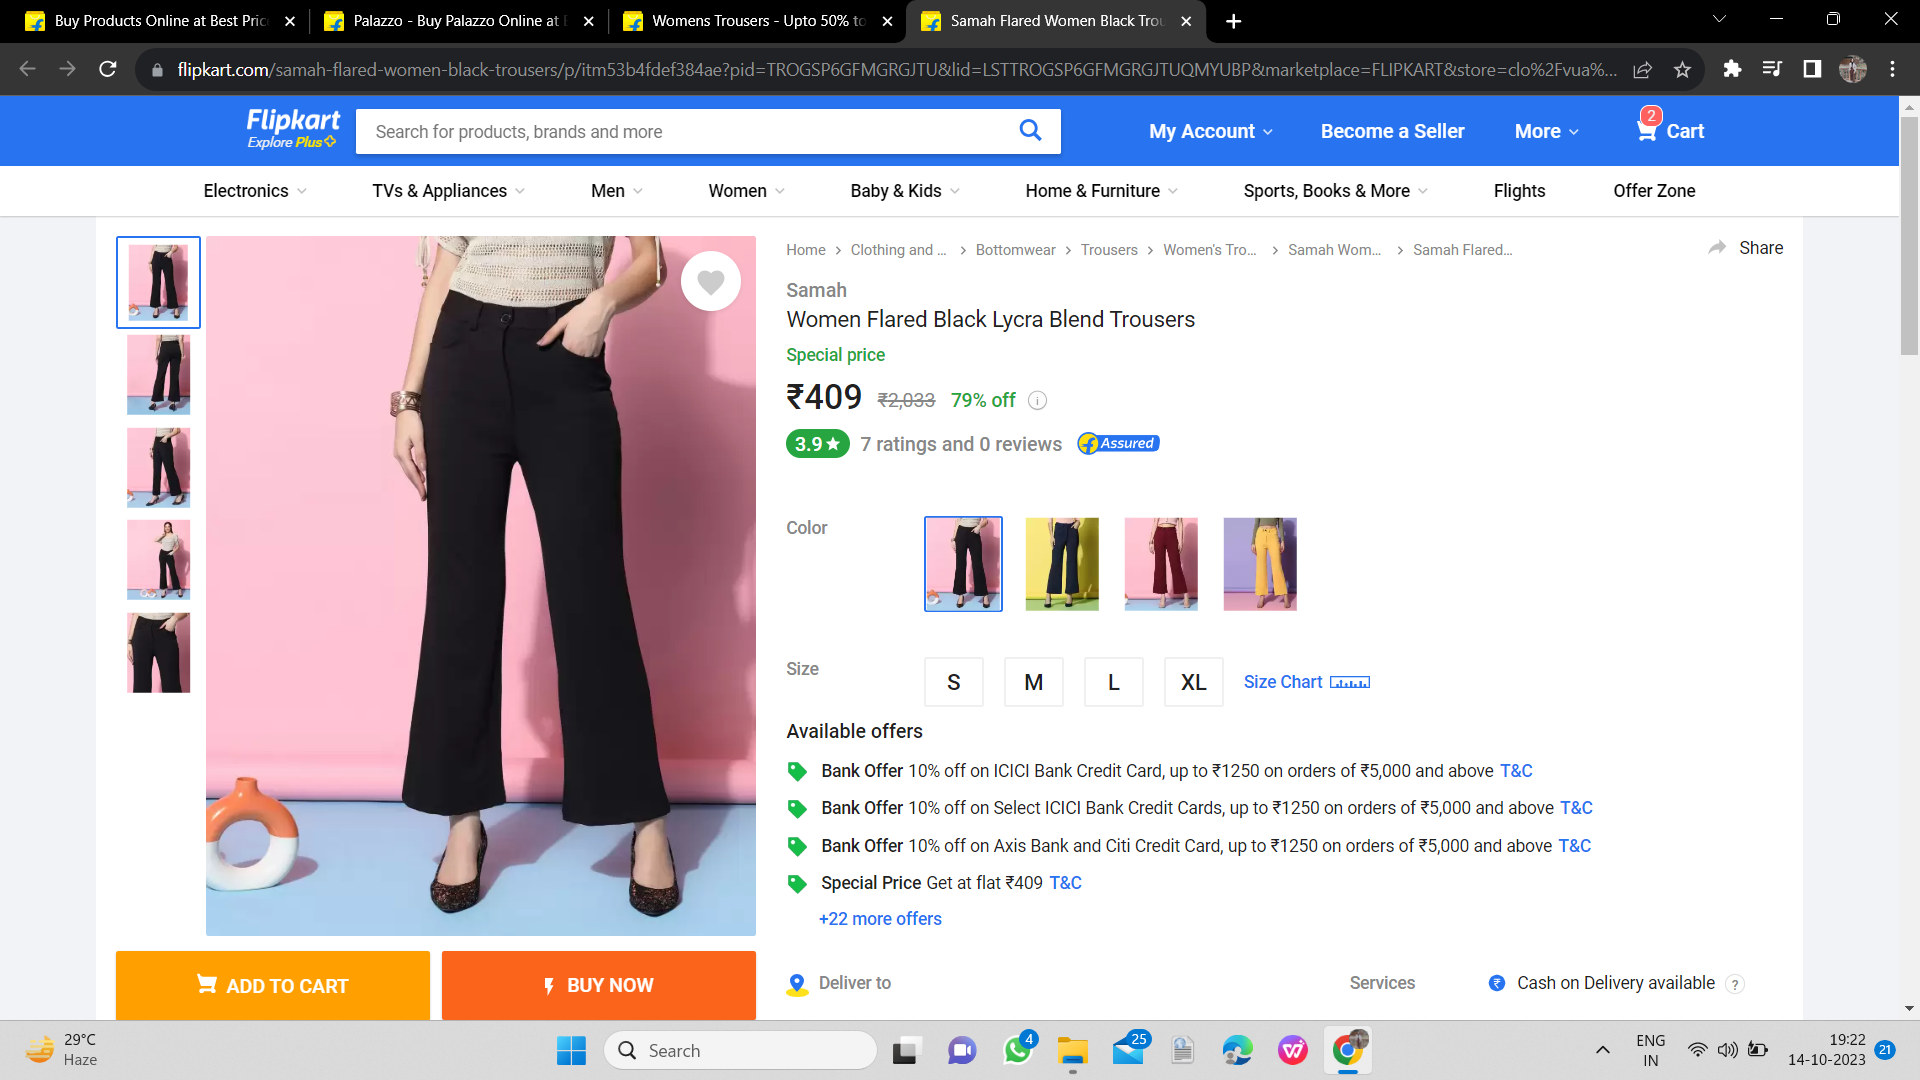Image: (210, 237, 756, 919), (903, 513, 1324, 628)
Paragraph: (779, 750, 1598, 932), (105, 932, 766, 1018), (1129, 99, 1720, 160), (906, 651, 1387, 720), (781, 272, 1205, 336), (777, 414, 1174, 465), (777, 340, 1025, 410), (1342, 971, 1720, 997), (774, 720, 949, 744), (773, 513, 845, 539), (790, 661, 822, 682)
